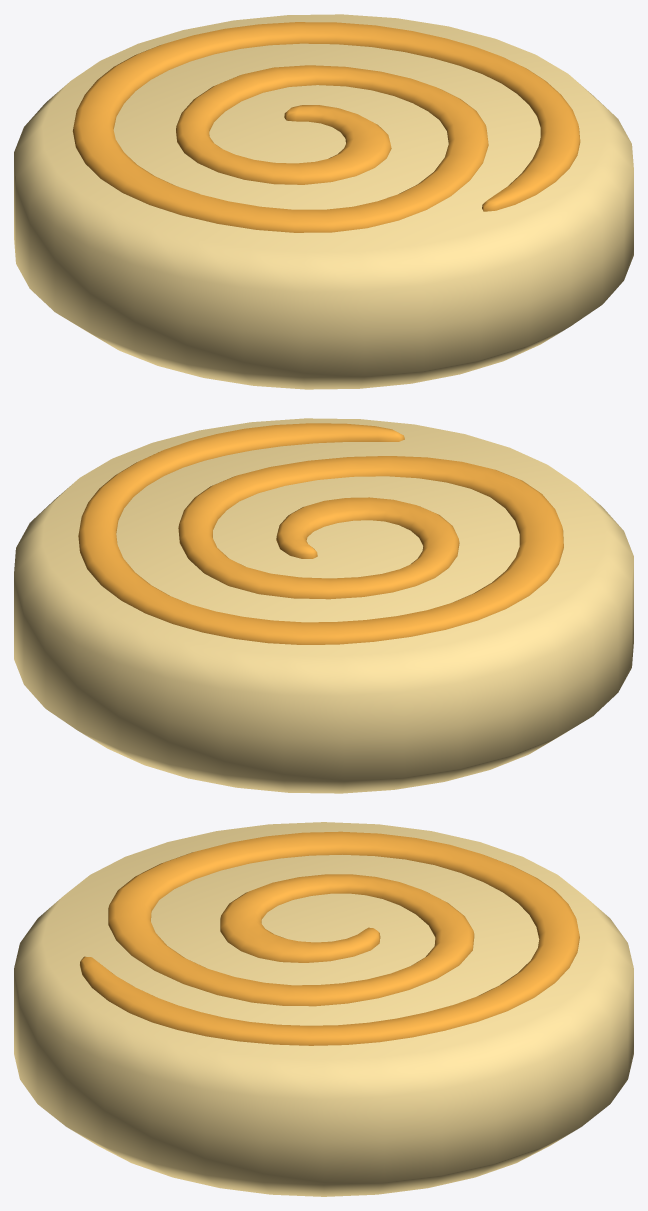
File: sweet_yellow.fbx
3 views of the same model, one above another, from view 1: azimuth 30°, elevation 25°; view 2: azimuth 150°, elevation 25°; view 3: azimuth 270°, elevation 25° (orthographic).
Visible parts, largest first — view 1: Cylinder, Plane; view 2: Cylinder, Plane; view 3: Cylinder, Plane.
Part boxes in pixels (left/top/right/bottom): Cylinder: left=14, top=14, right=633, bottom=389; Plane: left=72, top=22, right=580, bottom=232; Cylinder: left=14, top=418, right=633, bottom=793; Plane: left=78, top=423, right=563, bottom=644; Cylinder: left=14, top=822, right=633, bottom=1196; Plane: left=80, top=831, right=579, bottom=1045.
Bounding box in the file's own units: 0.3016 × 0.0859 × 0.3016.
